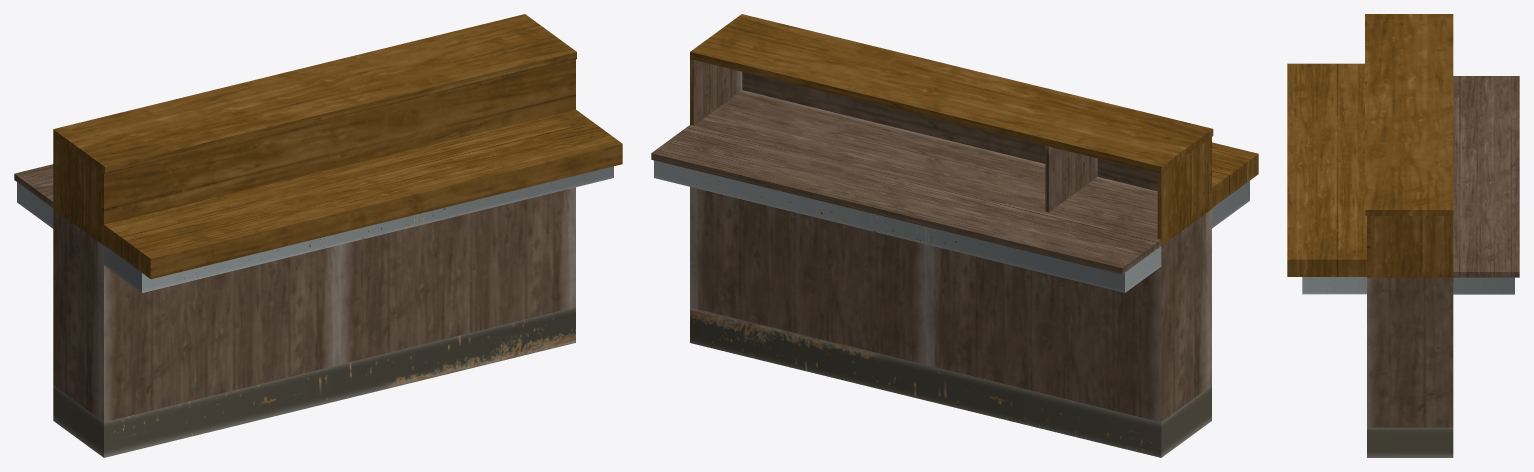
Rendered from tablecounter01a.fbx.
The picture shows the model from 3 angles, left to right: view 1: azimuth 30°, elevation 25°; view 2: azimuth 150°, elevation 25°; view 3: azimuth 270°, elevation 25°; orthographic projection. The views are drawn at different scales.
Visible parts, largest first — view 1: tablecounter01a; view 2: tablecounter01a; view 3: tablecounter01a.
Part boxes in pixels (<box>): tablecounter01a: <box>14,14,622,457</box>; tablecounter01a: <box>651,14,1258,457</box>; tablecounter01a: <box>1287,14,1519,457</box>.
Size of the model in its own units: 185 by 109 by 92.96.
